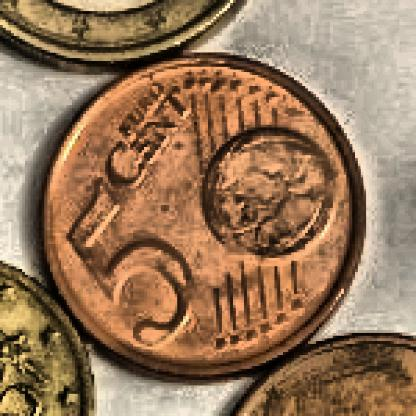coin: (36, 52, 370, 376)
